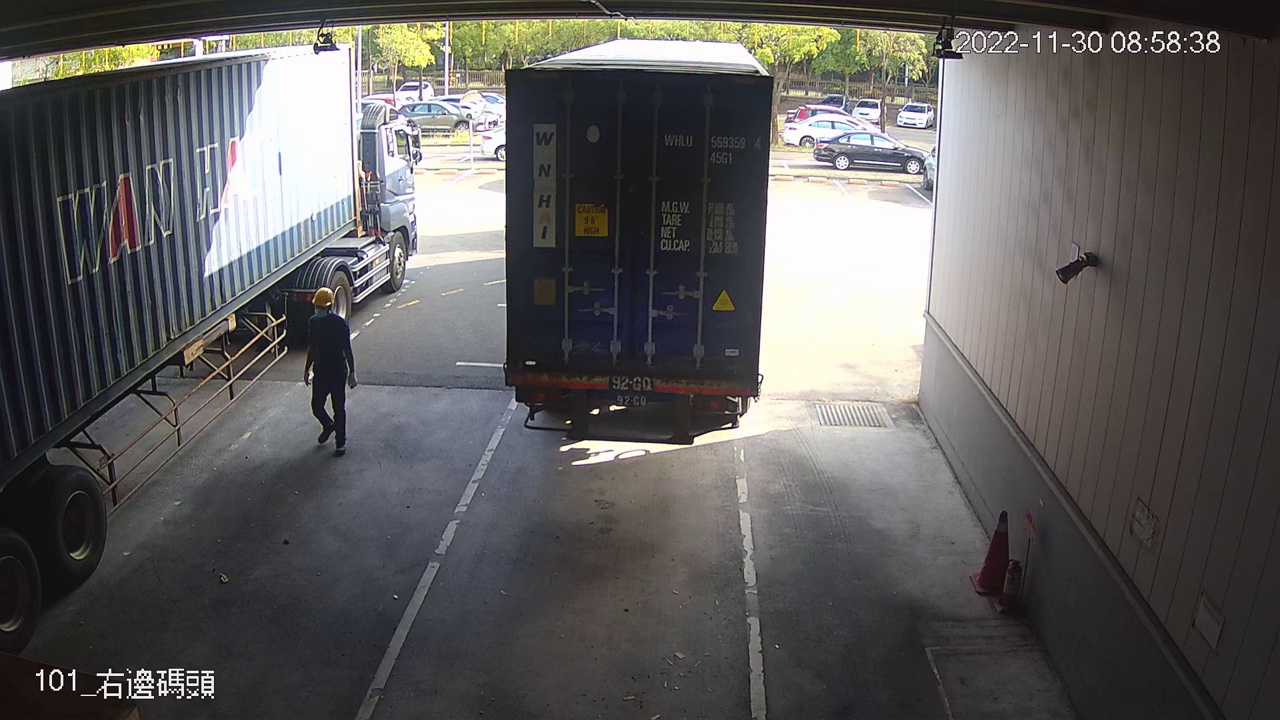container: (660, 128, 764, 168)
